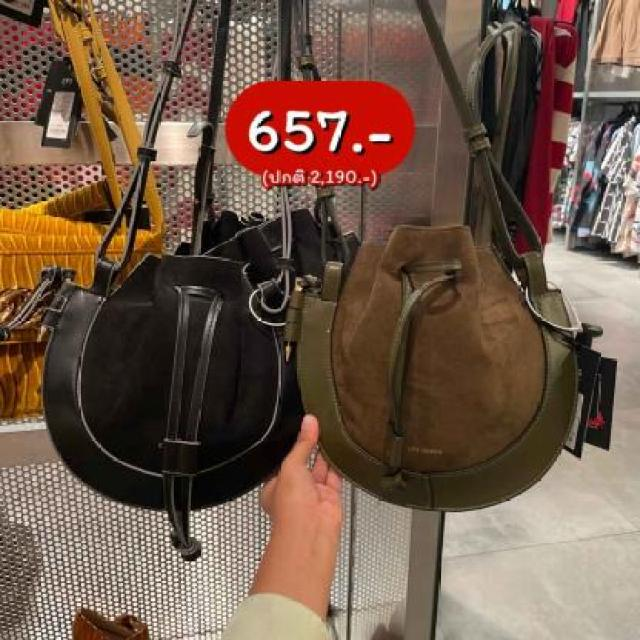Bag: (259, 0, 616, 537), (17, 0, 323, 548)
